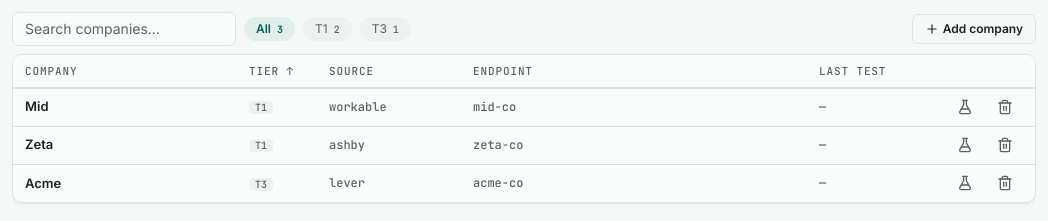
Scenario: CompanyTable › says what is missing when nothing matches the search
Type "nope" into the field labelled "Search companies" at (124, 29), box [12,12,236,46]
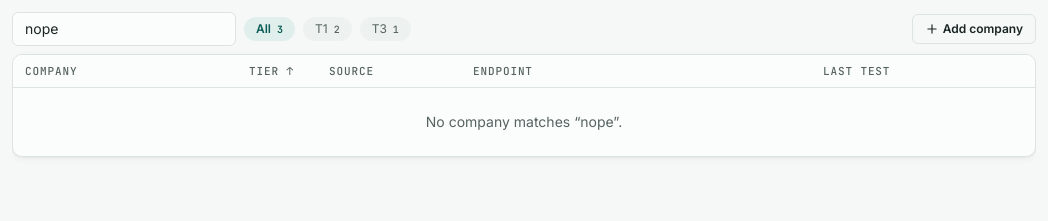
Expected: the text "No company matches “nope”." is shown, [13,88,1035,156]
